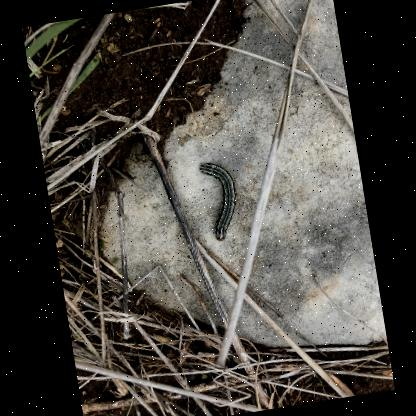Fall Armyworm Larvae: (196, 156, 246, 245)
